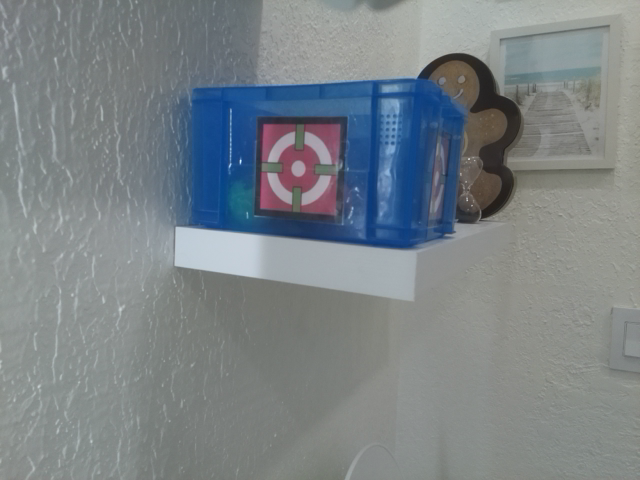drop-bin: (253, 115, 348, 225)
